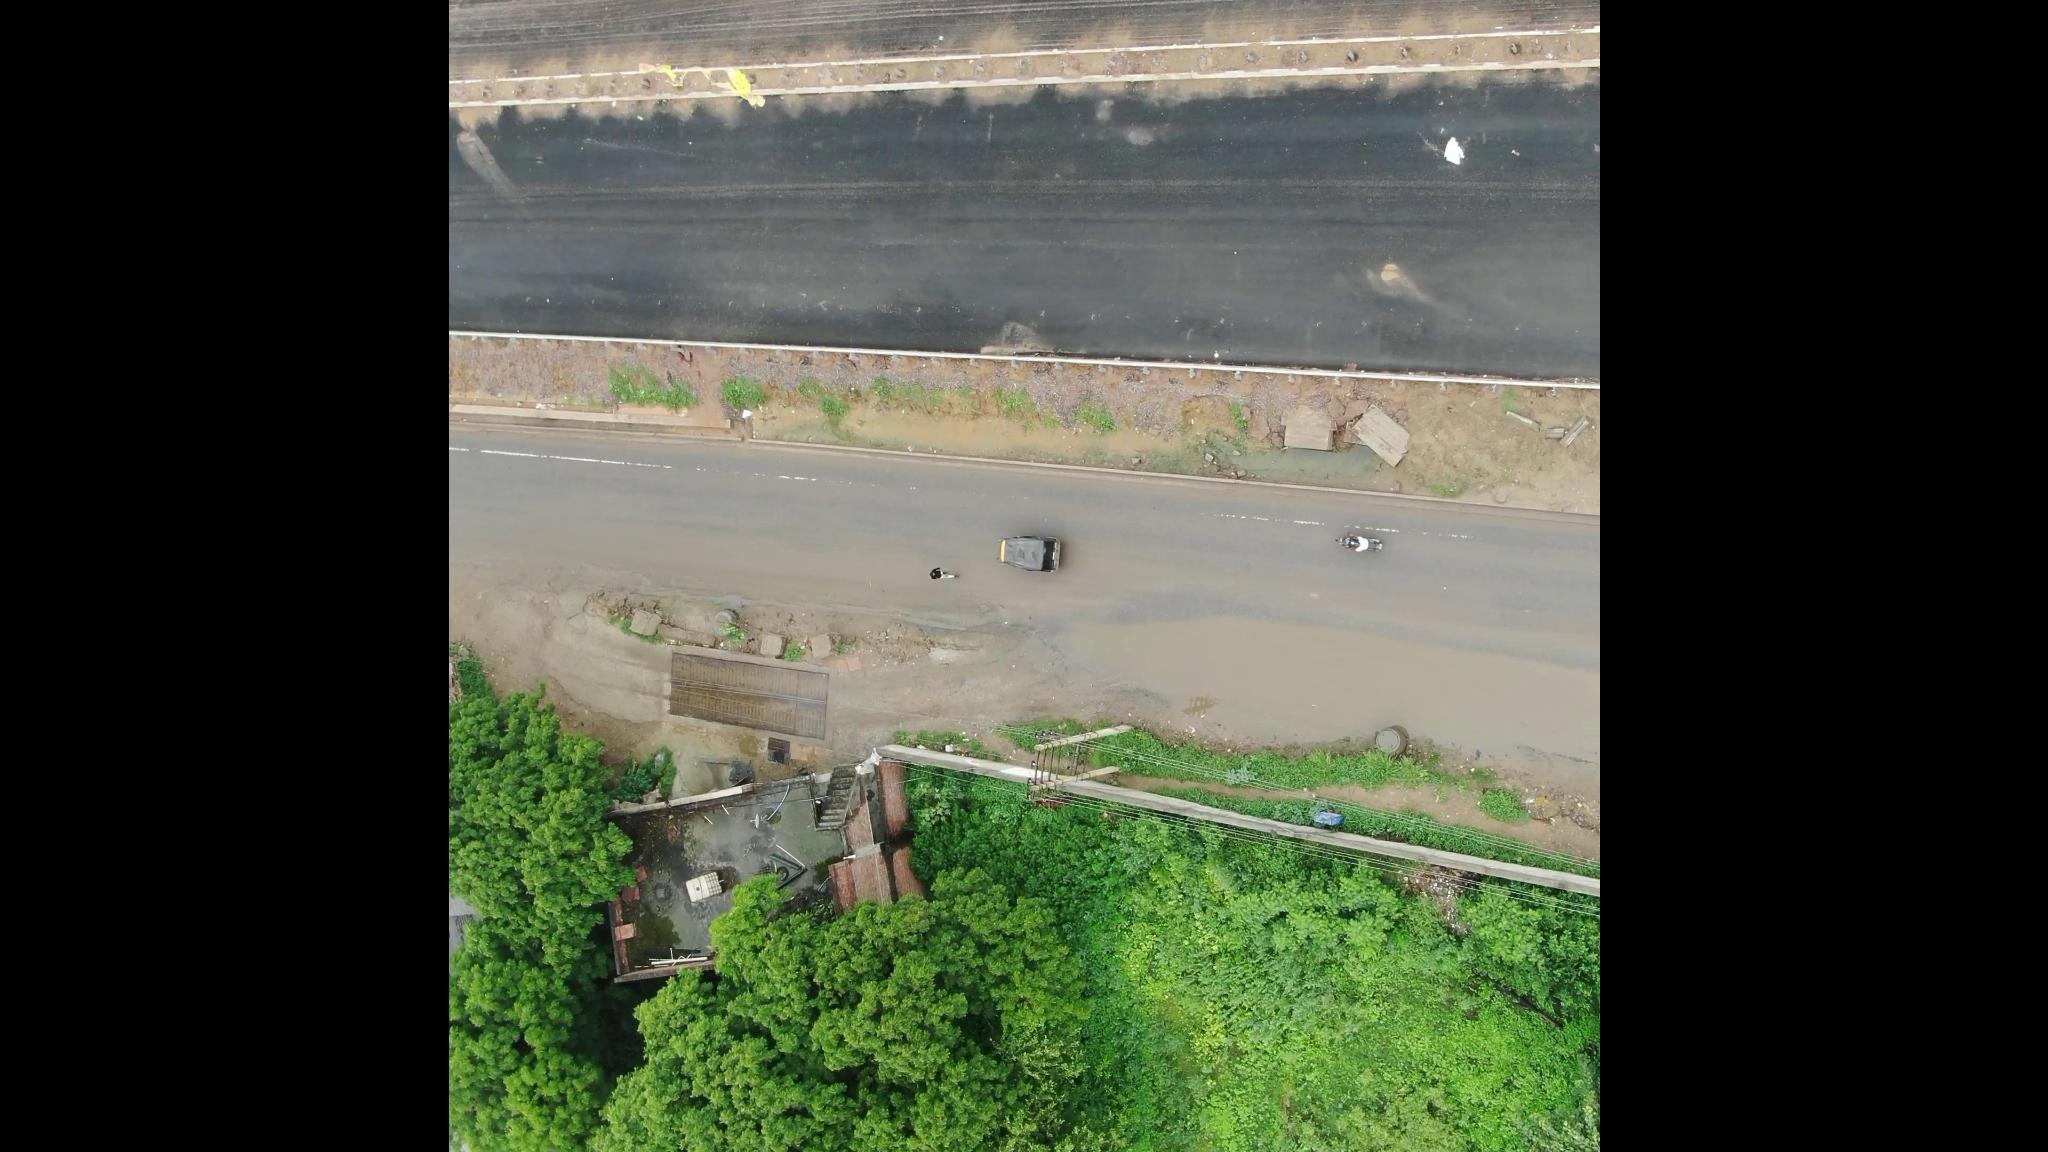Waterlogging: (1065, 603, 1582, 817)
